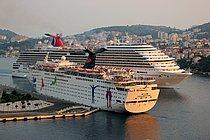Ship: (26, 58, 164, 119), (93, 40, 197, 90)
